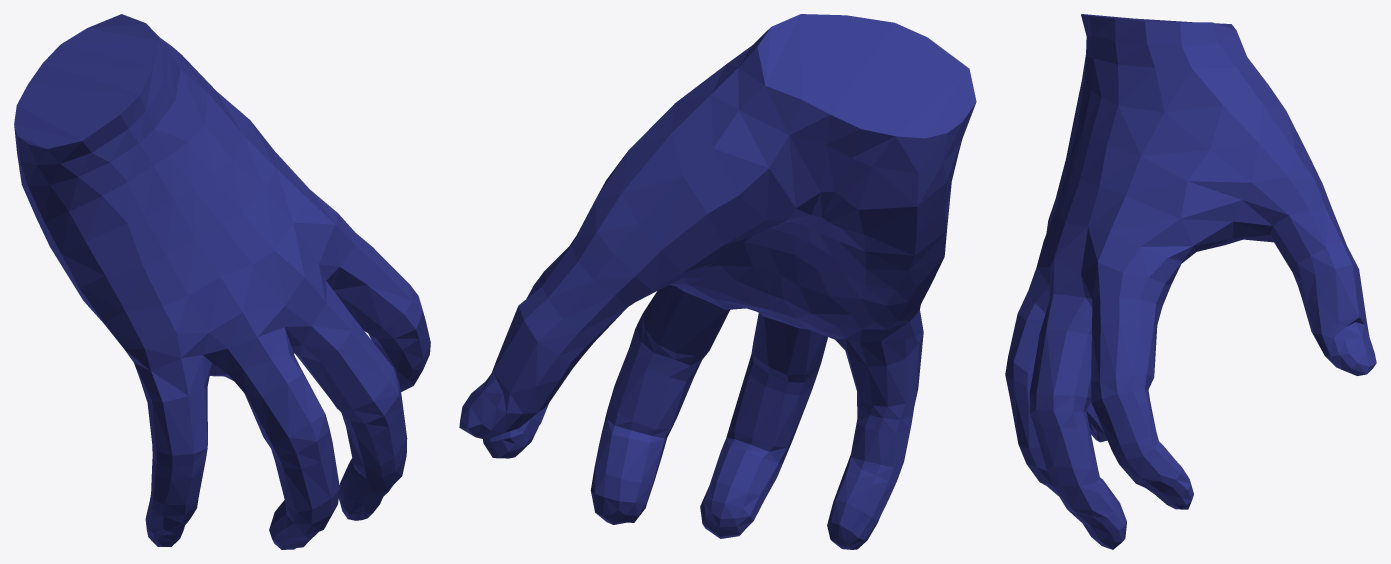
The picture shows the model from 3 angles, left to right: view 1: azimuth 30°, elevation 25°; view 2: azimuth 150°, elevation 25°; view 3: azimuth 270°, elevation 25°; orthographic projection. The views are drawn at different scales.
Size of the model in its own units: 0.135 by 0.1649 by 0.1228.
